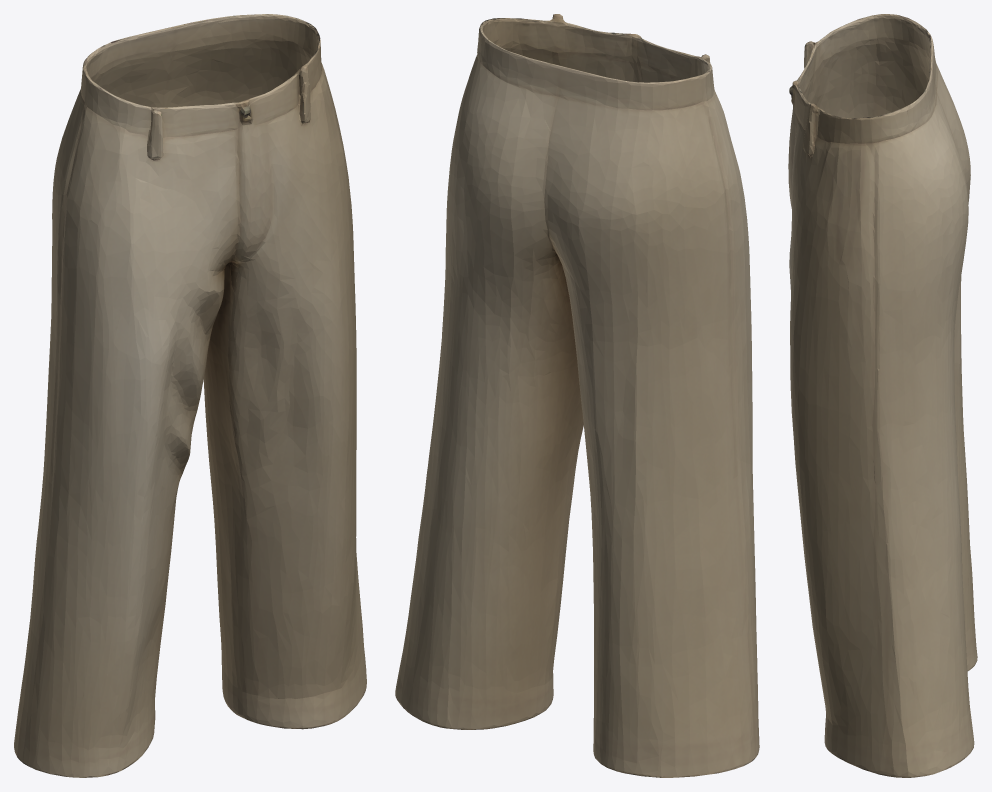
The model's file is Linen_Pants.glb.
3 views of the same model, side by side, from view 1: azimuth 30°, elevation 25°; view 2: azimuth 150°, elevation 25°; view 3: azimuth 270°, elevation 25° (orthographic). The views are drawn at different scales.
Parts seen in each view (by area): view 1: world; view 2: world; view 3: world.
Boxes of the visible parts, x1,y1,x2,y2 form: world: (14, 14, 366, 777); world: (395, 14, 759, 777); world: (788, 14, 977, 777).
Bounding box in the file's own units: 0.5333 × 0.9986 × 0.2687.
1 material, 1 textured.
